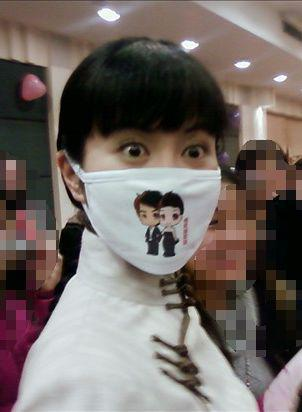OK: (83, 114, 224, 268)
